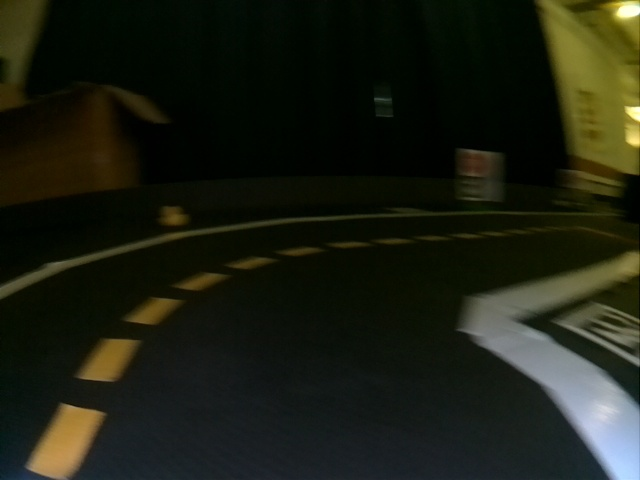Duckie: (160, 207, 188, 226)
QR code: (552, 302, 639, 367), (457, 176, 485, 199)
Stop sign: (456, 151, 488, 174)
